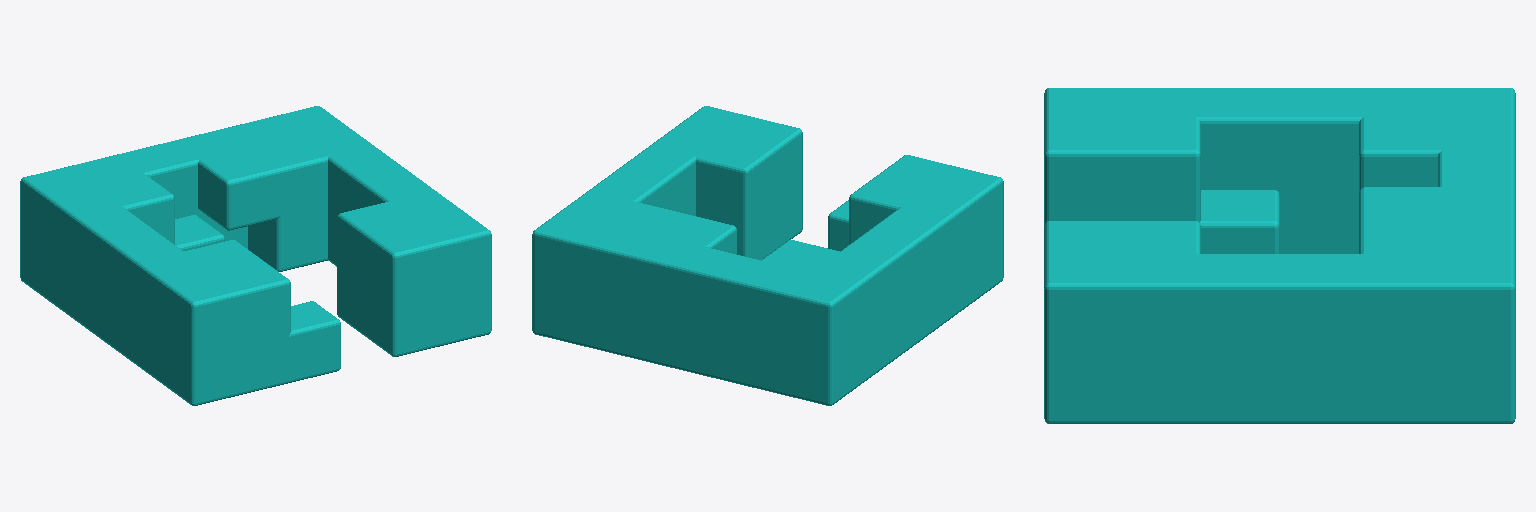
The robot description file, URDF, robot "obj_2":
<robot name="obj_2" version="1.0">
  <link name="link_piece_2">
    <collision name="piece_2-collision.001">
      <origin rpy="0.00000 0.00000 -1.57080" xyz="-0.30171 0.16084 0.21612"/>
      <geometry>
        <mesh filename="../meshes/obj/piece_2-collision.001.obj" scale="2.12910 2.12910 2.12910"/>
      </geometry>
    </collision>
    <collision name="piece_2-collision.002">
      <origin rpy="0.00000 0.00000 -1.57080" xyz="-0.06073 0.37169 0.26231"/>
      <geometry>
        <mesh filename="../meshes/obj/piece_2-collision.002.obj" scale="2.12910 2.12910 2.09201"/>
      </geometry>
    </collision>
    <collision name="piece_2-collision.003">
      <origin rpy="0.00000 0.00000 -1.57080" xyz="-0.43362 0.49046 0.28574"/>
      <geometry>
        <mesh filename="../meshes/obj/piece_2-collision.003.obj" scale="2.12910 2.12910 2.12910"/>
      </geometry>
    </collision>
    <collision name="piece_2-collision.004">
      <origin rpy="0.00000 0.00000 -1.57080" xyz="-0.12286 0.19362 0.26076"/>
      <geometry>
        <mesh filename="../meshes/obj/piece_2-collision.004.obj" scale="2.12910 2.12910 2.12910"/>
      </geometry>
    </collision>
    <collision name="piece_2-collision.005">
      <origin rpy="0.00000 0.00000 -1.57080" xyz="-0.27712 0.60246 0.26004"/>
      <geometry>
        <mesh filename="../meshes/obj/piece_2-collision.005.obj" scale="2.12910 2.12910 2.12910"/>
      </geometry>
    </collision>
    <collision name="piece_2-collision.006">
      <origin rpy="0.00000 0.00000 -1.57080" xyz="-0.25608 0.49218 0.30073"/>
      <geometry>
        <mesh filename="../meshes/obj/piece_2-collision.006.obj" scale="2.12910 2.11495 2.12910"/>
      </geometry>
    </collision>
    <collision name="piece_2-collision.007">
      <origin rpy="0.00000 0.00000 -1.57080" xyz="-0.38438 0.19753 0.28037"/>
      <geometry>
        <mesh filename="../meshes/obj/piece_2-collision.007.obj" scale="2.12910 2.12910 2.12910"/>
      </geometry>
    </collision>
    <collision name="piece_2-collision.008">
      <origin rpy="0.00000 0.00000 -1.57080" xyz="-0.11446 0.49520 0.23734"/>
      <geometry>
        <mesh filename="../meshes/obj/piece_2-collision.008.obj" scale="2.12140 2.12910 2.12910"/>
      </geometry>
    </collision>
    <collision name="piece_2-collision.009">
      <origin rpy="0.00000 0.00000 -1.57080" xyz="-0.49680 0.23962 0.25628"/>
      <geometry>
        <mesh filename="../meshes/obj/piece_2-collision.009.obj" scale="2.12910 2.12910 2.12910"/>
      </geometry>
    </collision>
    <collision name="piece_2-collision.010">
      <origin rpy="0.00000 0.00000 -1.57080" xyz="-0.29540 0.49046 0.22010"/>
      <geometry>
        <mesh filename="../meshes/obj/piece_2-collision.010.obj" scale="2.12910 2.12910 2.12910"/>
      </geometry>
    </collision>
    <collision name="piece_2-collision.011">
      <origin rpy="0.00000 0.00000 -1.57080" xyz="-0.38226 0.34865 0.21747"/>
      <geometry>
        <mesh filename="../meshes/obj/piece_2-collision.011.obj" scale="2.12910 2.12910 2.12910"/>
      </geometry>
    </collision>
    <inertial>
      <inertia ixx="0.00109" ixy="0.00001" ixz="0.00001" iyy="0.00110" iyz="-0.00000" izz="0.00201"/>
      <origin rpy="0.00000 0.00000 0.00000" xyz="-0.28073 0.39219 0.25723"/>
      <mass value="0.01000"/>
    </inertial>
    <visual name="piece_2">
      <material name="Piece"/>
      <origin rpy="0.00000 0.00000 -1.57080" xyz="-0.28268 0.33640 0.25647"/>
      <geometry>
        <mesh filename="../meshes/obj/threePlates_14m.001.obj" scale="0.01065 0.01065 0.01065"/>
      </geometry>
    </visual>
  </link>
  <material name="Piece">
    <color rgba="0.15294 0.80000 0.78039 1.00000"/>
  </material>
</robot>

--- What the picture shows (computed from the rendered views, not written in the file) ---
The picture shows the robot from 3 angles, left to right: view 1: azimuth 30°, elevation 25°; view 2: azimuth 150°, elevation 25°; view 3: azimuth 270°, elevation 25°; orthographic projection.
Model obj_2 with 1 links and 0 joints (none), rooted at link_piece_2, posed all joints at 0.
Visible links, largest first — view 1: link_piece_2; view 2: link_piece_2; view 3: link_piece_2.
Boxes of the visible links, x1,y1,x2,y2 form: link_piece_2: (20, 106, 491, 405); link_piece_2: (532, 106, 1003, 405); link_piece_2: (1044, 88, 1515, 423).
Size in the robot's own frame: 0.5098 by 0.5101 by 0.169 metres.
Meshes: 1 distinct files referenced, 1 mesh visuals loaded (1 OBJ).